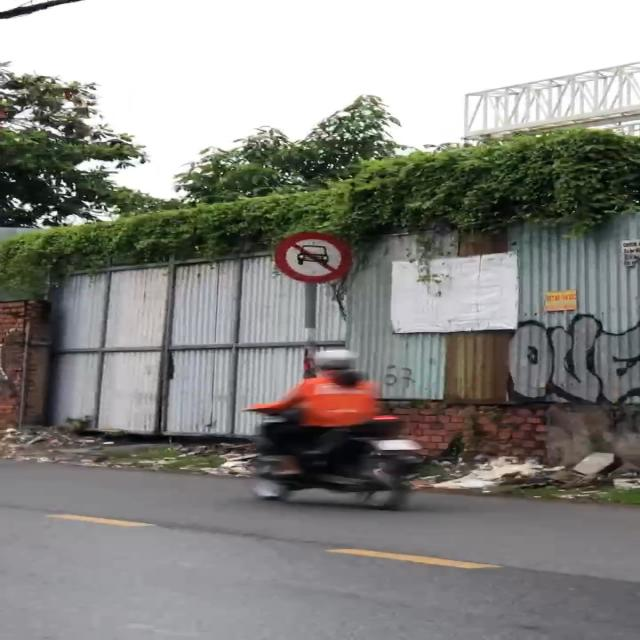Bien bao cam xe oto: (276, 230, 358, 282)
